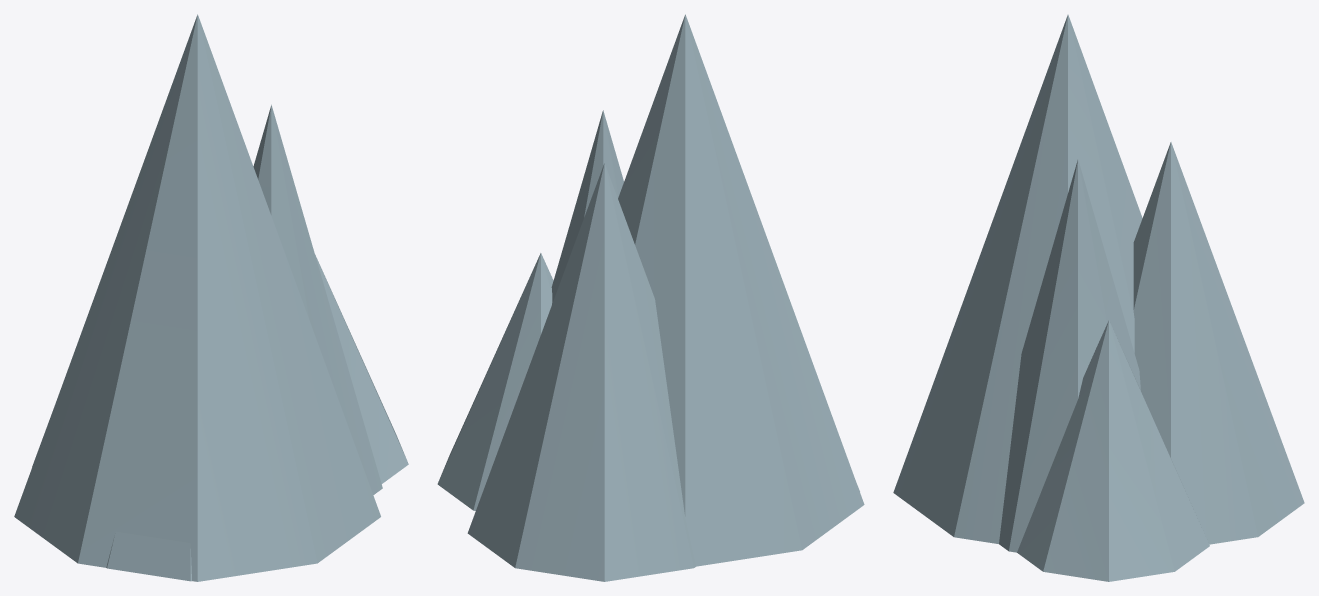
File: ice_spire-04.glb
3 views of the same model, side by side, from view 1: azimuth 30°, elevation 25°; view 2: azimuth 150°, elevation 25°; view 3: azimuth 270°, elevation 25° (orthographic). The views are drawn at different scales.
Visible parts, largest first — view 1: world; view 2: world; view 3: world.
Boxes of the visible parts, x1,y1,x2,y2 form: world: (14, 14, 408, 581); world: (437, 14, 864, 581); world: (893, 14, 1304, 581).
Size of the model in its own units: 1.03 by 1.29 by 1.04.
